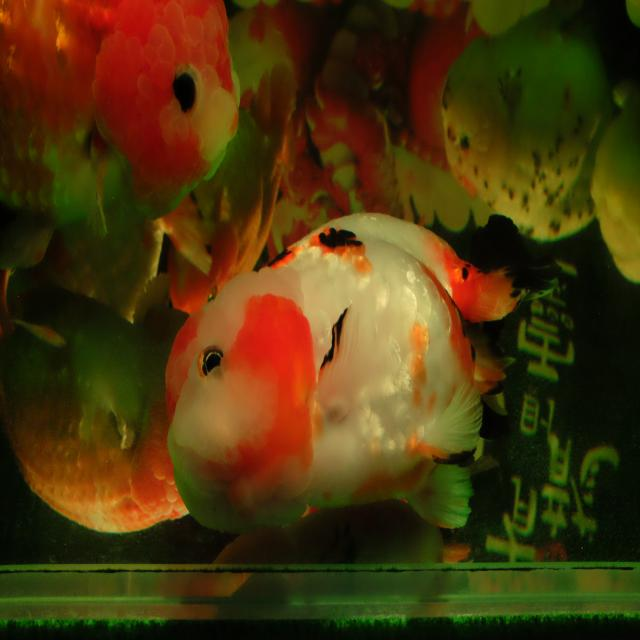Tilapia: (164, 212, 565, 533), (0, 0, 242, 239), (437, 6, 630, 247)
